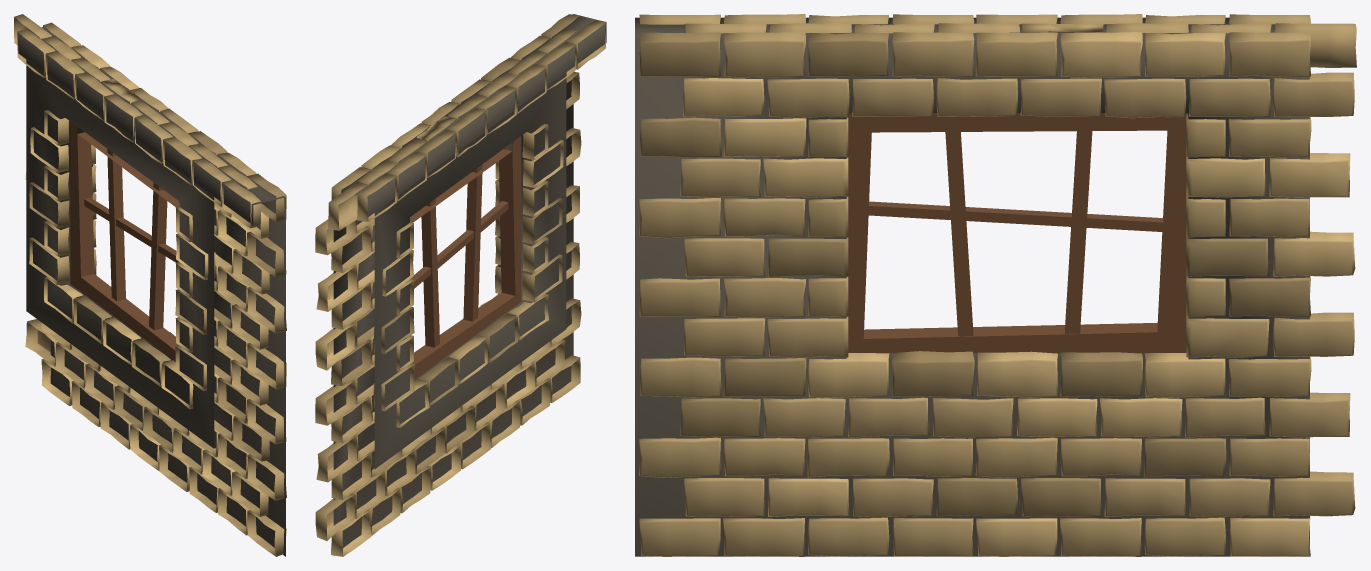
The model's file is NewWall_window.fbx.
3 renders of one model, left to right at view 1: azimuth 30°, elevation 25°; view 2: azimuth 150°, elevation 25°; view 3: azimuth 270°, elevation 25°, orthographic. The views are drawn at different scales.
Visible parts, largest first — view 1: Wall_window; view 2: Wall_window; view 3: Wall_window.
Boxes of the visible parts, left/top/right/bottom form: Wall_window: left=14, top=14, right=286, bottom=556; Wall_window: left=315, top=14, right=606, bottom=556; Wall_window: left=635, top=14, right=1356, bottom=556.
Size of the model in its own units: 41.9 by 357 by 450.
